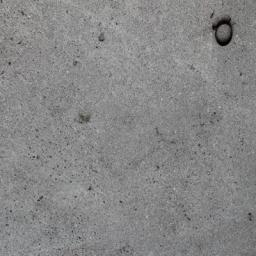FOD: (205, 13, 240, 52)
